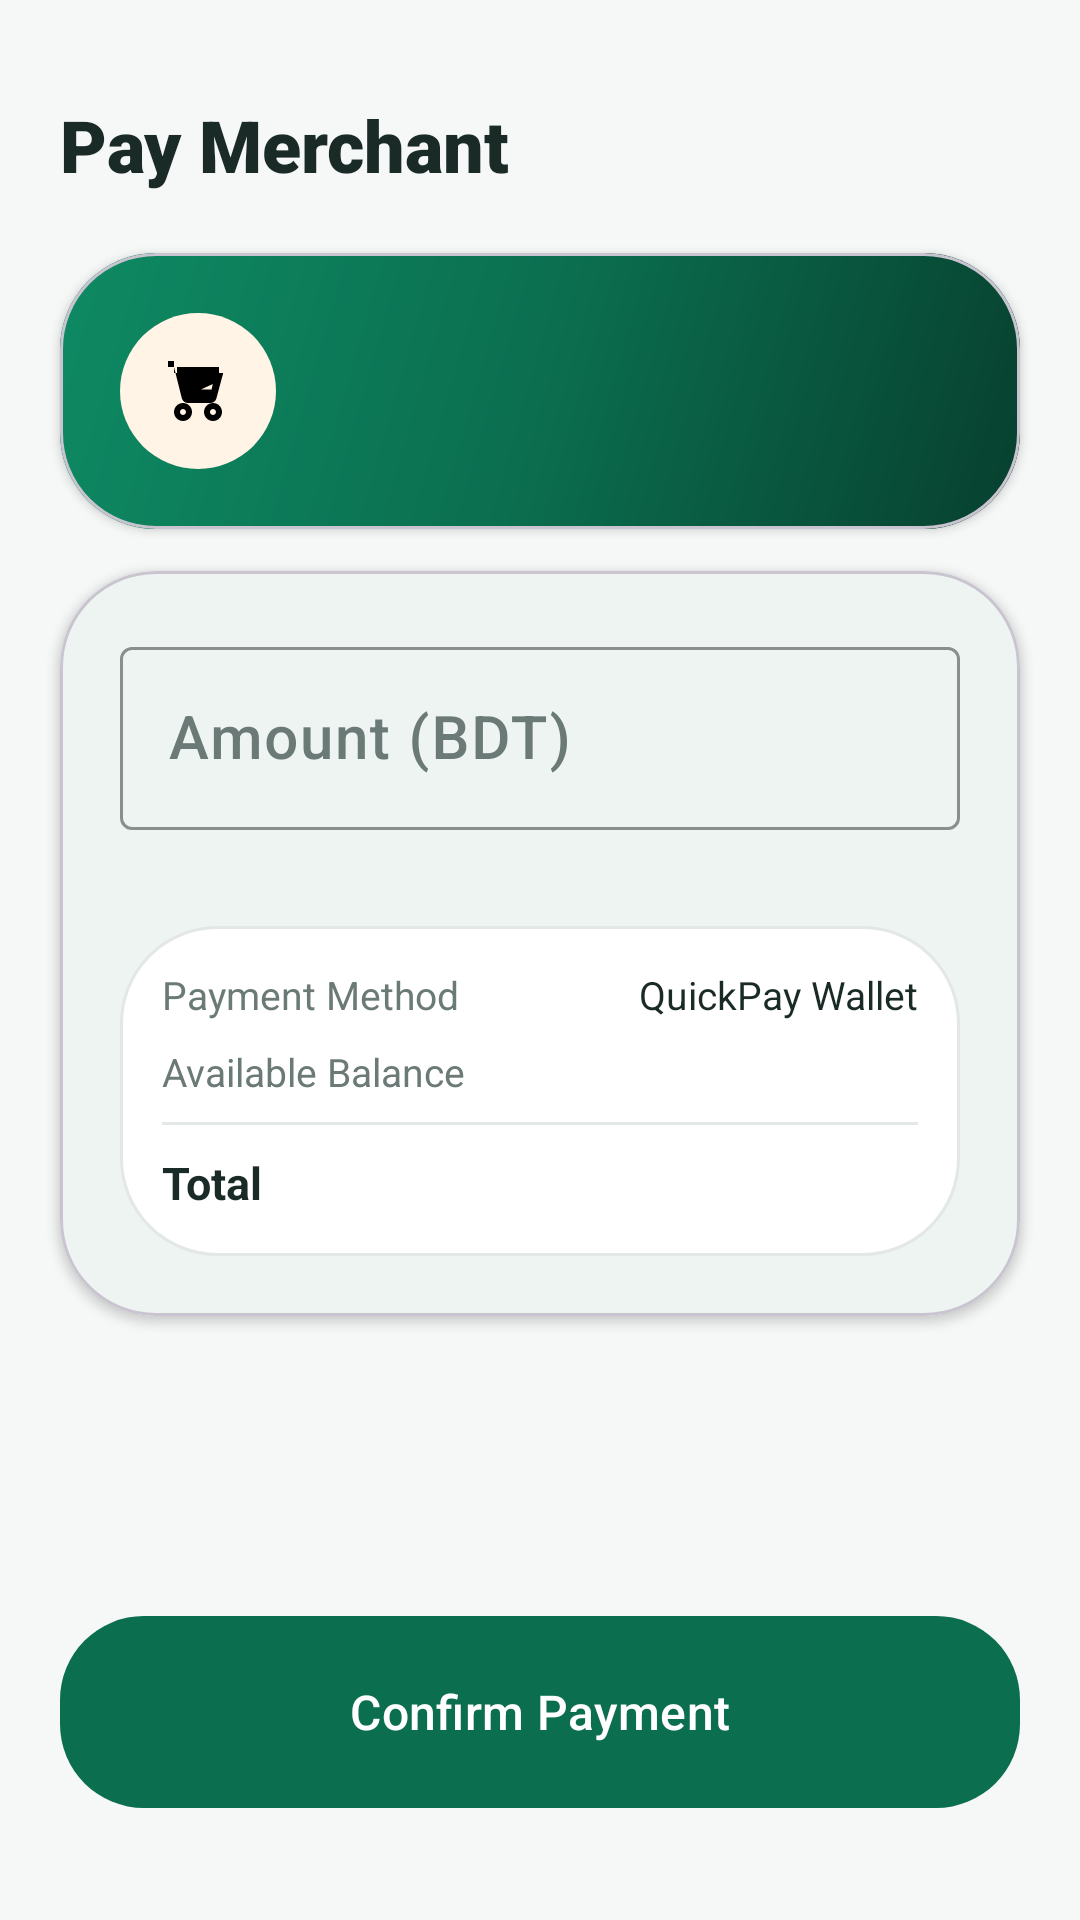

Screen size 1080px×1920px. Icon name, then its center in pixels as point (x, y):
Pay Merchant: point (195, 391)
